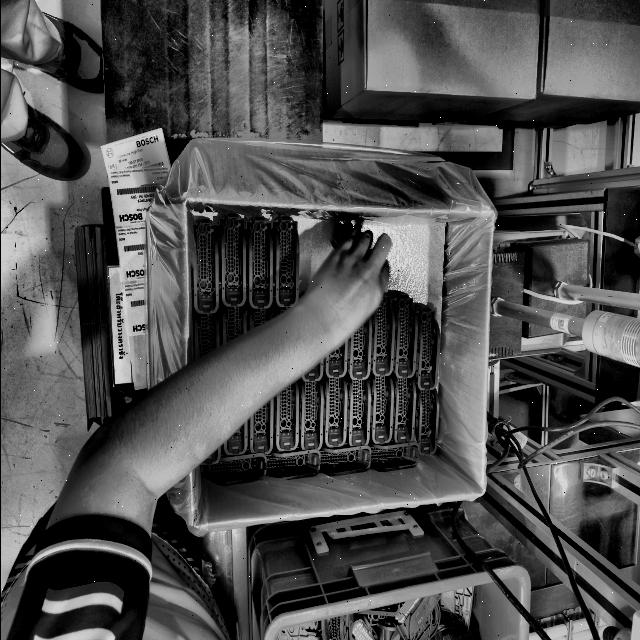P38: (217, 211, 245, 307), (190, 218, 218, 314), (271, 215, 299, 307), (245, 215, 272, 309), (412, 303, 439, 391), (390, 291, 417, 378), (200, 453, 266, 486), (320, 364, 346, 447), (413, 372, 438, 456), (390, 362, 415, 444), (367, 366, 393, 444), (264, 445, 320, 481), (370, 293, 394, 376), (345, 368, 370, 447), (272, 380, 298, 452), (298, 377, 322, 450), (369, 438, 419, 472), (192, 301, 219, 361), (317, 446, 370, 476), (346, 317, 371, 380), (246, 397, 273, 454), (220, 300, 246, 345), (323, 338, 348, 378), (223, 420, 247, 456), (248, 304, 271, 332), (301, 359, 322, 382), (200, 446, 220, 465), (272, 307, 291, 319)
